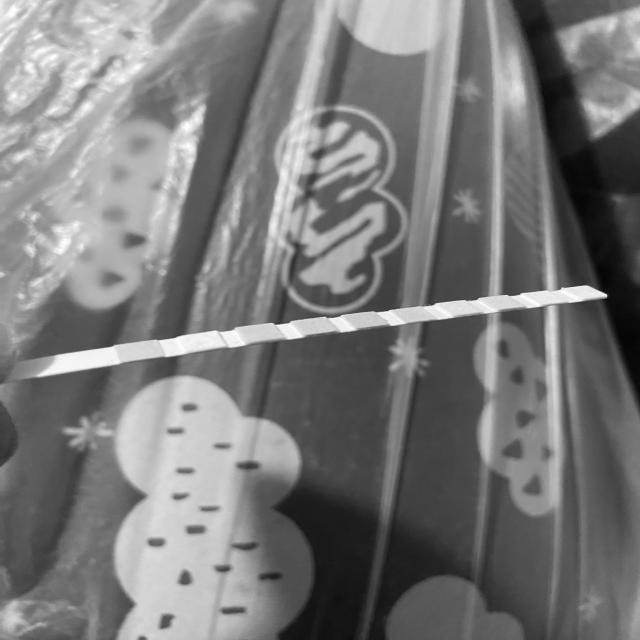Bilirubin: (185, 335, 220, 348)
Blood: (348, 313, 379, 325)
Glucose: (120, 344, 160, 357)
Ketone: (244, 327, 276, 339)
Leukocytes: (569, 287, 594, 296)
Nitrite: (532, 293, 558, 301)
Protein: (448, 302, 471, 314)
SpGravity: (299, 320, 329, 332)
Urobilinogen: (491, 296, 511, 308)
background: (0, 0, 640, 640)
pH: (400, 308, 424, 320)
strip: (7, 286, 609, 382)
